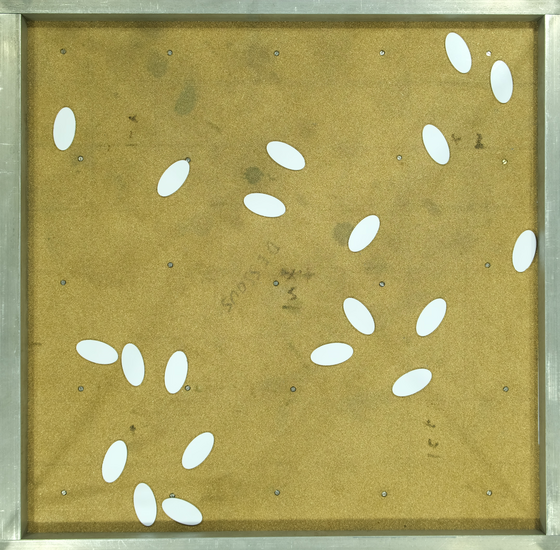pallet: (38, 102, 87, 154), (154, 344, 203, 396), (405, 291, 454, 343), (335, 286, 384, 338), (501, 225, 550, 277), (341, 206, 390, 258), (477, 58, 526, 110), (430, 26, 479, 78), (412, 118, 461, 170), (239, 180, 288, 232), (259, 133, 308, 185), (150, 152, 199, 204), (387, 355, 436, 407), (169, 423, 218, 475), (70, 327, 119, 379), (85, 434, 134, 486), (305, 334, 357, 379), (122, 477, 159, 530), (115, 338, 147, 392), (158, 493, 207, 526)
